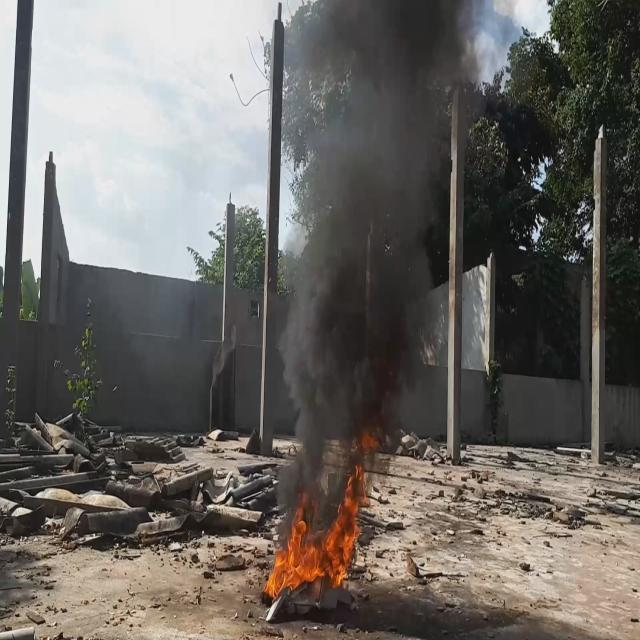Fire: (262, 468, 370, 606)
Smoke: (276, 0, 474, 514)
